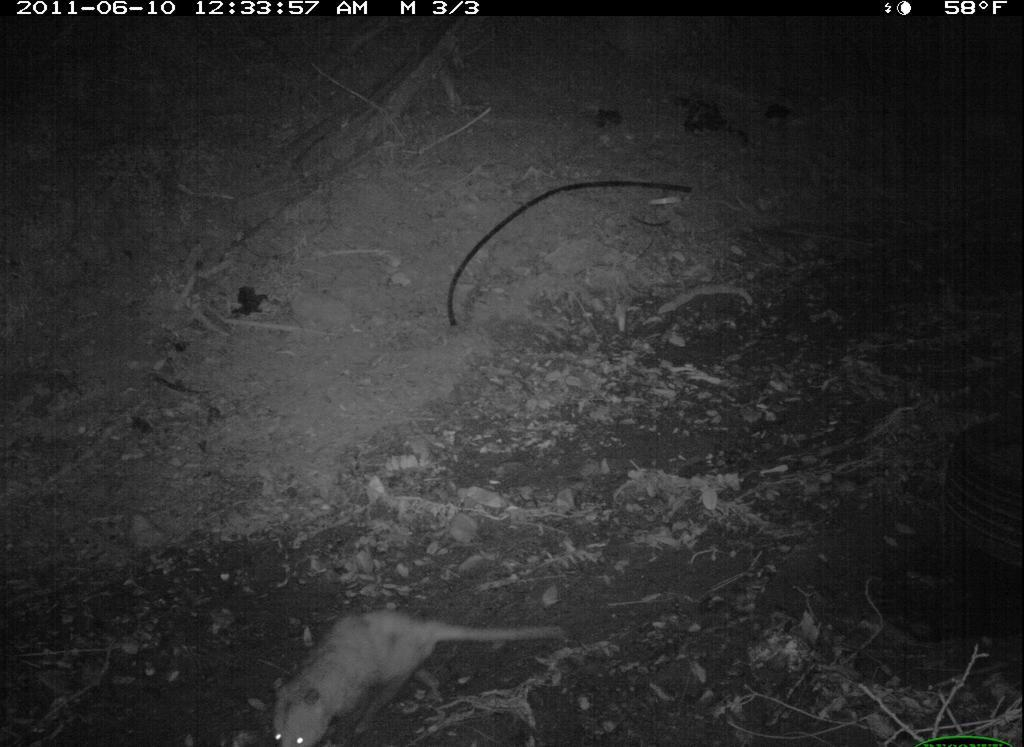opossum: (239, 605, 577, 745)
